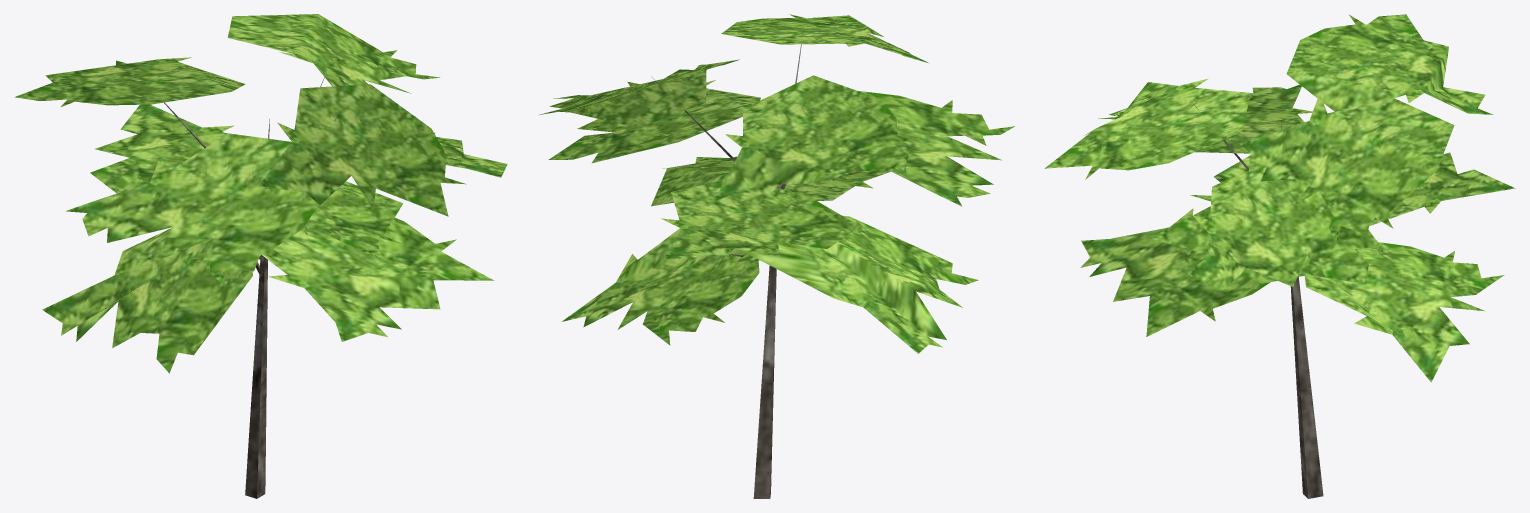
The picture shows the model from 3 angles, left to right: view 1: azimuth 30°, elevation 25°; view 2: azimuth 150°, elevation 25°; view 3: azimuth 270°, elevation 25°; orthographic projection. The views are drawn at different scales.
Parts seen in each view (by area): view 1: 5b55abc29e94502ae0a292fe.001; view 2: 5b55abc29e94502ae0a292fe.001; view 3: 5b55abc29e94502ae0a292fe.001.
Part boxes in pixels (left/top/right/bottom): 5b55abc29e94502ae0a292fe.001: left=14, top=14, right=507, bottom=498; 5b55abc29e94502ae0a292fe.001: left=539, top=14, right=1014, bottom=498; 5b55abc29e94502ae0a292fe.001: left=1044, top=14, right=1515, bottom=498.
Size of the model in its own units: 17.53 by 17.98 by 18.51.
Materials: 1 (1 with a texture image).
